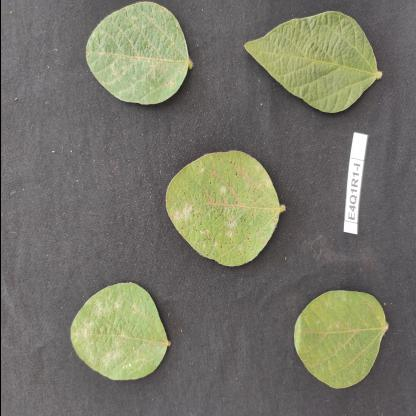label: (339, 127, 377, 241)
leaflets: (228, 1, 389, 120), (152, 138, 294, 272), (284, 278, 398, 402), (78, 0, 196, 112), (61, 280, 182, 388)
